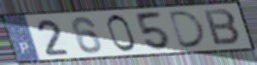0: (105, 13, 138, 53)
2: (34, 16, 74, 58)
5: (133, 10, 172, 52)
6: (70, 15, 103, 55)
B: (202, 8, 244, 47)
D: (167, 9, 209, 50)
